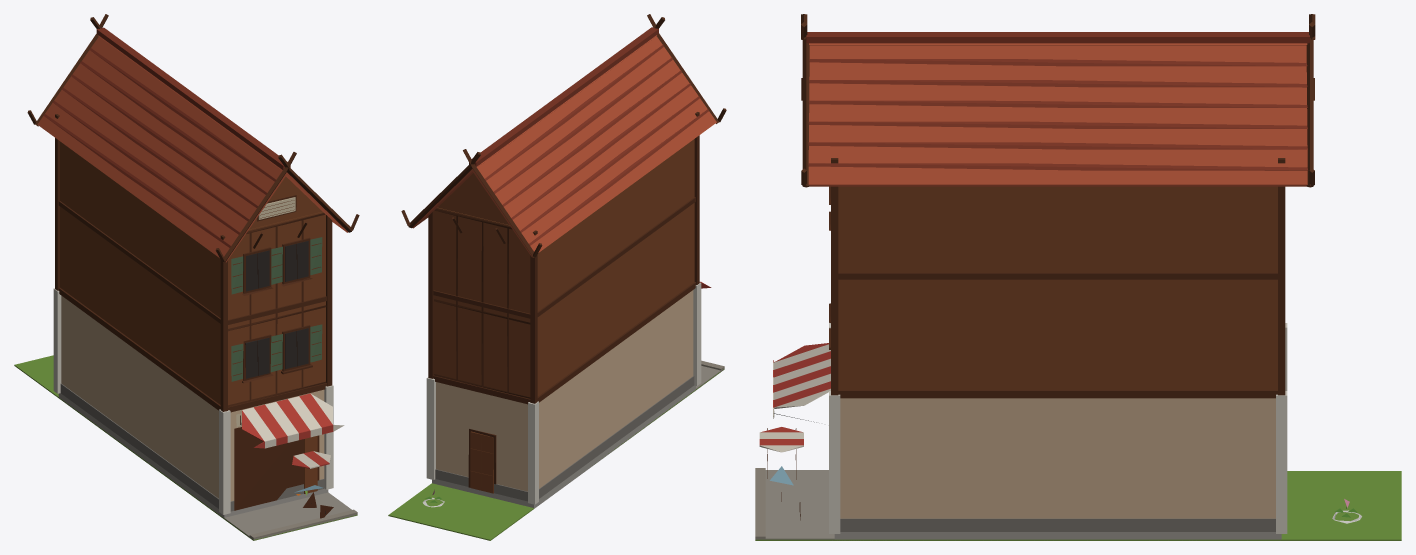
File: bay2_mid.glb
The picture shows the model from 3 angles, left to right: view 1: azimuth 30°, elevation 25°; view 2: azimuth 150°, elevation 25°; view 3: azimuth 270°, elevation 25°; orthographic projection. The views are drawn at different scales.
Visible parts, largest first — view 1: body, windows; view 2: body; view 3: body.
Boxes of the visible parts, x1,y1,x2,y2 form: body: (14,14,359,540); windows: (245,241,308,378); body: (388,14,726,540); body: (755,14,1401,540).
Size of the model in its own units: 5.52 by 13.28 by 15.9.
